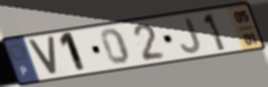0: (100, 27, 132, 67)
1: (58, 31, 90, 74), (201, 11, 228, 52)
2: (133, 23, 168, 63)
J: (178, 16, 203, 55)
V: (25, 35, 60, 77)
